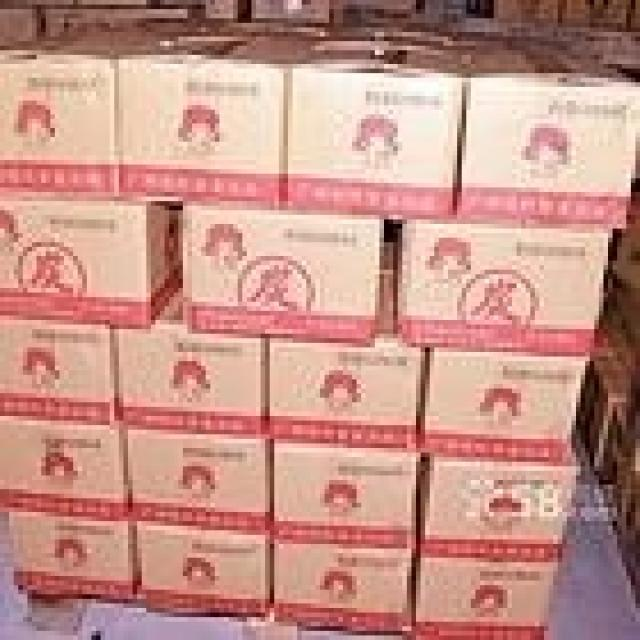box: (114, 25, 335, 208), (457, 31, 635, 229), (286, 26, 469, 217), (268, 241, 428, 447), (0, 24, 180, 194), (399, 220, 614, 355), (185, 206, 383, 346), (0, 187, 184, 326), (114, 287, 266, 436), (417, 435, 583, 561), (417, 341, 590, 461), (272, 439, 423, 547), (126, 423, 271, 530), (270, 533, 414, 633), (132, 517, 268, 613), (0, 317, 117, 423), (410, 553, 561, 635), (6, 506, 133, 600), (2, 420, 129, 513), (576, 326, 635, 474), (602, 400, 635, 603), (38, 6, 189, 29), (602, 275, 635, 379), (609, 198, 635, 297), (559, 3, 635, 32), (494, 2, 562, 29), (581, 32, 635, 65), (252, 0, 331, 20), (349, 3, 419, 25), (1, 11, 42, 44), (421, 6, 466, 26), (203, 3, 237, 21)
